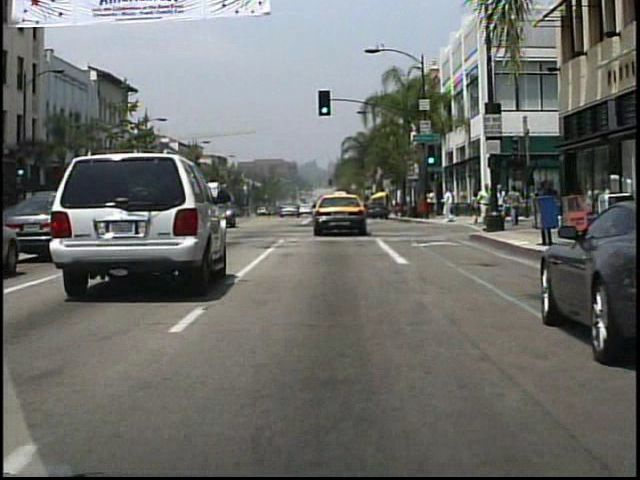person: (482, 185, 501, 231), (475, 182, 491, 233), (507, 185, 524, 229), (493, 184, 508, 229), (498, 189, 511, 225), (442, 188, 454, 223), (468, 191, 480, 225), (424, 188, 436, 219)
